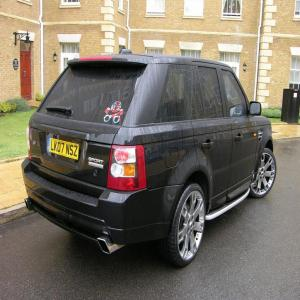Vehicle-registration-plate: (48, 138, 79, 161)
